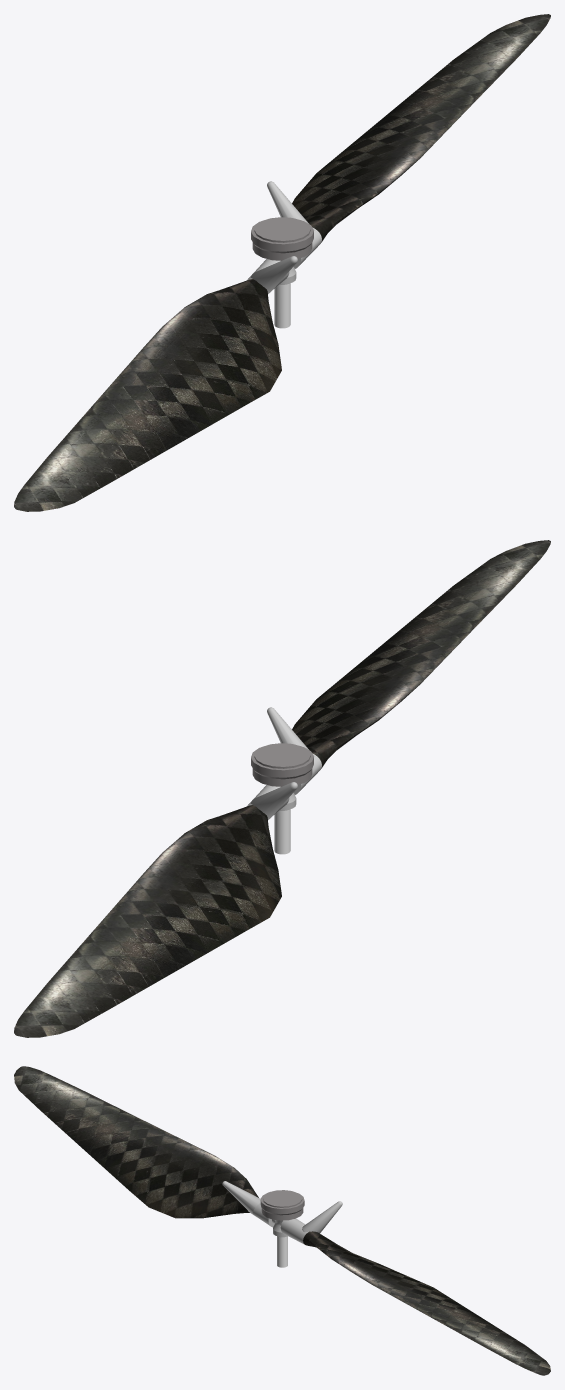
Rendered from propellor-2.dae.
The picture shows the model from 3 angles, top to bottom: view 1: azimuth 30°, elevation 25°; view 2: azimuth 210°, elevation 25°; view 3: azimuth 270°, elevation 25°; orthographic projection. The views are drawn at different scales.
Visible parts, largest first — view 1: rotors_02; view 2: rotors_02; view 3: rotors_02.
Boxes of the visible parts, bbox=[...] form: rotors_02: bbox=[14, 14, 550, 511]; rotors_02: bbox=[14, 540, 550, 1037]; rotors_02: bbox=[14, 1066, 550, 1375].
Size of the model in its own units: 0.9864 by 0.7241 by 0.1101.
